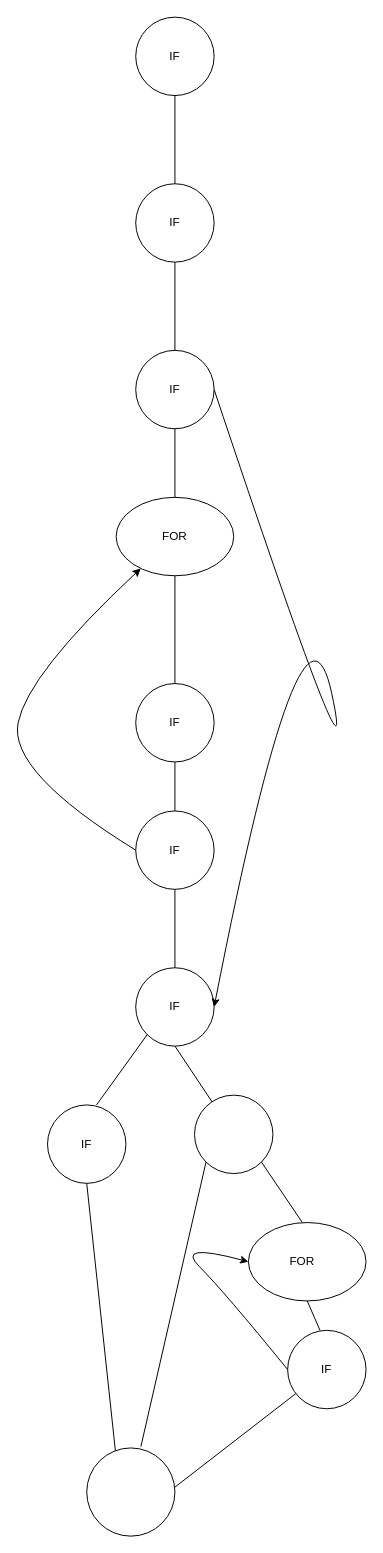
Some shapes in this 383 by 1553 pixel diagram are drawn without their labels. Here are the shapes that lost their labels. From the top down, the box of each, then its label:
(194, 1094, 273, 1174): ELSE IF
(86, 1447, 175, 1536): END
